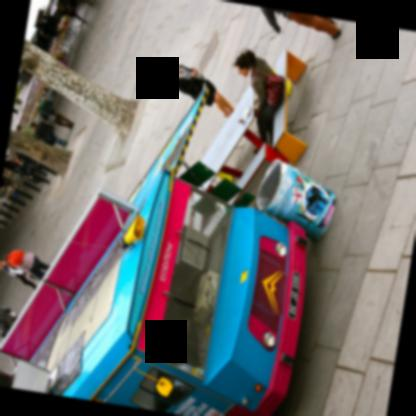handbag: (250, 69, 285, 105), (38, 108, 56, 125), (0, 312, 18, 328), (42, 135, 53, 144)
